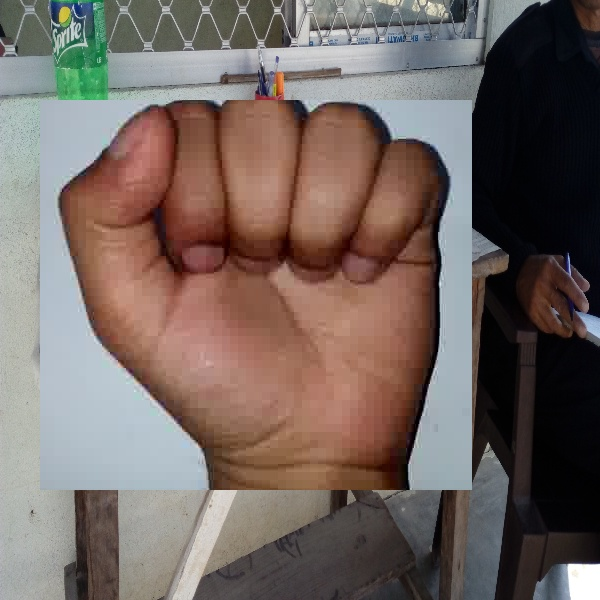A: (40, 100, 472, 490)
